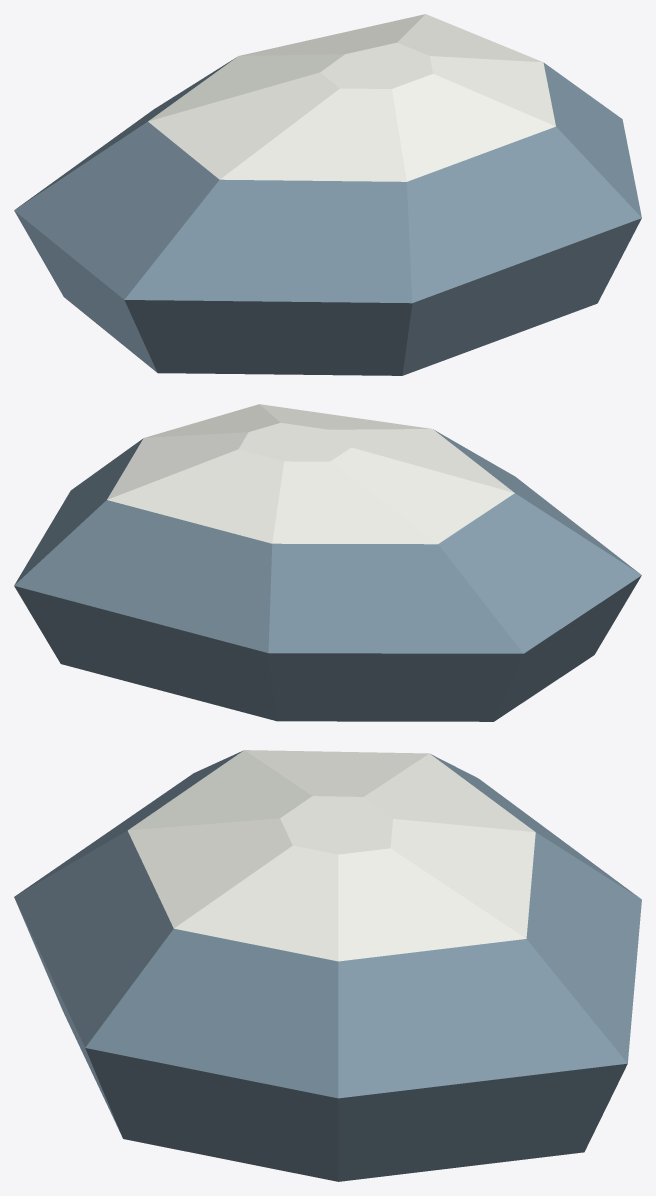
File: snow-spire.glb
3 renders of one model, top to bottom at view 1: azimuth 30°, elevation 25°; view 2: azimuth 150°, elevation 25°; view 3: azimuth 270°, elevation 25°, orthographic. The views are drawn at different scales.
Parts seen in each view (by area): view 1: snow-spire; view 2: snow-spire; view 3: snow-spire.
Part boxes in pixels (x1,y1,x2,y2): snow-spire: (14,14,641,375); snow-spire: (14,404,641,721); snow-spire: (14,750,641,1181).
Bounding box in the file's own units: 3.79 × 1.3 × 3.09.
